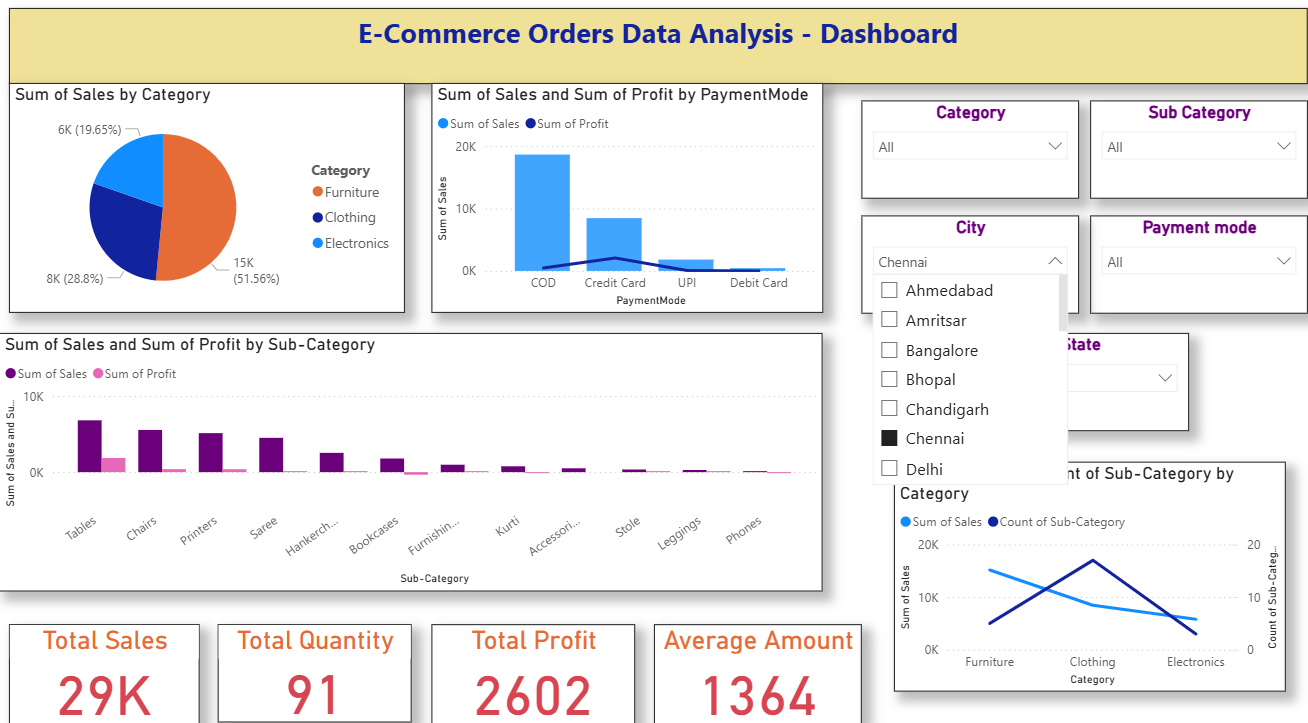

Layout of this report page (visuals, bound fields, positions):
{"tool":"powerbi","page":{"name":"Main Dashboard","canvas":[1280,720],"ordinal":0},"visuals":[{"type":"textbox","box":[9.6,0,1270.7,79.6],"z":0},{"type":"card","title":"Total Quantity","fields":{"Values":["Sum(Details.Quantity)"]},"box":[214.1,623,189.4,96.1],"z":1000},{"type":"card","title":"Total Sales","fields":{"Values":["Sum(Details.Sales)"]},"box":[9.6,623,186.6,97.4],"z":2000},{"type":"card","title":"Total Profit","fields":{"Values":["Sum(Details.Profit)"]},"box":[422.6,623,199,97.4],"z":3000},{"type":"card","title":"Average Amount","fields":{"Values":["Max(Details.Amount)"]},"box":[640.8,623,203.1,97.4],"z":4000},{"type":"pieChart","fields":{"Category":["Details.Category"],"Y":["Sum(Details.Sales)"]},"box":[9.6,93.3,387,225],"z":5000},{"type":"lineClusteredColumnComboChart","fields":{"Category":["Details.PaymentMode"],"Y":["Sum(Details.Sales)"],"Y2":["Sum(Details.Profit)"]},"box":[422.6,93.3,382.8,225],"z":6000},{"type":"lineClusteredColumnComboChart","fields":{"Category":["Details.Sub-Category"],"Y":["Sum(Details.Sales)","Sum(Details.Profit)"]},"box":[0,337.6,805.5,252.5],"z":7000},{"type":"slicer","title":"Category","fields":{"Values":["Details.Category"]},"box":[843.9,109.8,212.7,96.1],"z":8000},{"type":"slicer","title":"Payment mode","fields":{"Values":["Details.PaymentMode"]},"box":[1067.6,222.3,212.7,96.1],"z":9000},{"type":"slicer","title":"Sub Category","fields":{"Values":["Details.Sub-Category"]},"box":[1067.6,109.8,212.7,96.1],"z":10000},{"type":"slicer","title":"City","fields":{"Values":["Orders.City"]},"box":[843.9,222.3,212.7,96.1],"z":11000},{"type":"slicer","title":"State","fields":{"Values":["Orders.State"]},"box":[950.9,337.6,212.7,96.1],"z":12000},{"type":"clusteredColumnChart","fields":{"Category":["Details.Category"],"Y":["Sum(Details.Profit)"]},"box":[901.5,448.7,312.9,260.7],"z":13000}]}

Visuals, with their boxes in screenshot pixels (x1, y1, x2, y2), scaled from the page's 1280x720 canvas onto the 1308x723 screenshot:
textbox: (left=10, top=0, right=1307, bottom=80)
"Total Quantity" card: (left=219, top=626, right=412, bottom=722)
"Total Sales" card: (left=10, top=626, right=200, bottom=722)
"Total Profit" card: (left=432, top=626, right=635, bottom=722)
"Average Amount" card: (left=655, top=626, right=862, bottom=722)
pieChart - Details.Category x Sum(Details.Sales): (left=10, top=94, right=405, bottom=320)
lineClusteredColumnComboChart - Details.PaymentMode x Sum(Details.Sales): (left=432, top=94, right=823, bottom=320)
lineClusteredColumnComboChart - Details.Sub-Category x Sum(Details.Sales): (left=0, top=339, right=823, bottom=593)
"Category" slicer: (left=862, top=110, right=1080, bottom=207)
"Payment mode" slicer: (left=1091, top=223, right=1307, bottom=320)
"Sub Category" slicer: (left=1091, top=110, right=1307, bottom=207)
"City" slicer: (left=862, top=223, right=1080, bottom=320)
"State" slicer: (left=972, top=339, right=1189, bottom=436)
clusteredColumnChart - Details.Category x Sum(Details.Profit): (left=921, top=451, right=1241, bottom=712)
